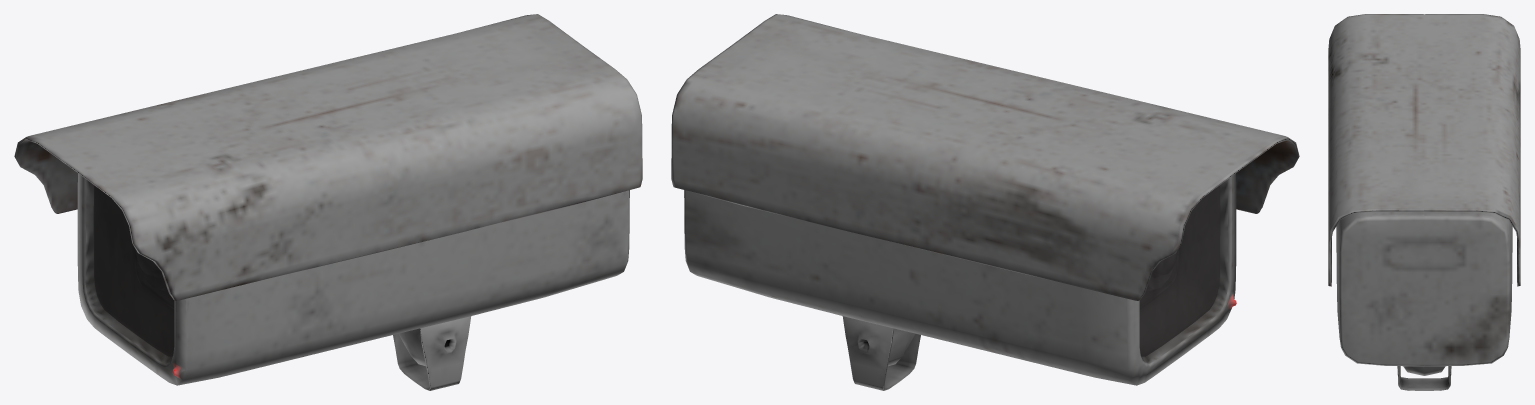
The model's file is camera_256.glb.
3 views of the same model, side by side, from view 1: azimuth 30°, elevation 25°; view 2: azimuth 150°, elevation 25°; view 3: azimuth 270°, elevation 25° (orthographic). The views are drawn at different scales.
Visible parts, largest first — view 1: Object_2, Object_3; view 2: Object_2, Object_3; view 3: Object_2.
Boxes of the visible parts, left/top/right/bottom form: Object_2: left=14, top=14, right=642, bottom=390; Object_3: left=93, top=185, right=174, bottom=356; Object_2: left=671, top=14, right=1299, bottom=390; Object_3: left=1139, top=185, right=1220, bottom=356; Object_2: left=1328, top=14, right=1520, bottom=390.
Size of the model in its own units: 37.62 by 20.89 by 15.56.
Materials: 2 (2 with a texture image).
